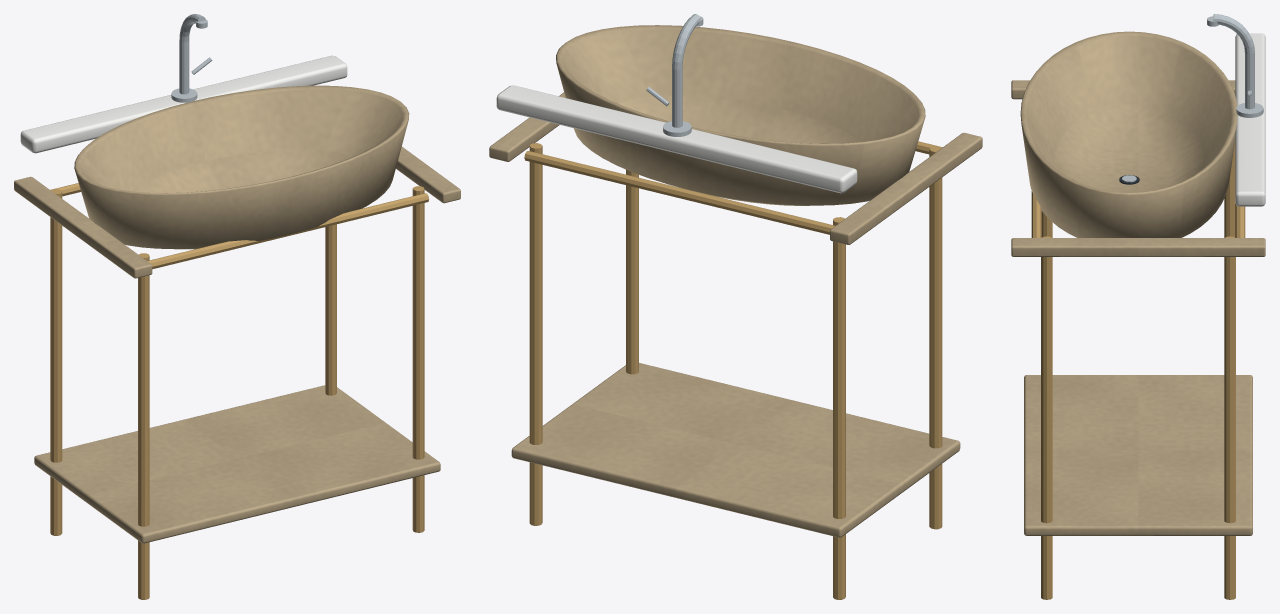
Rendered from designed-basin-console.glb.
3 views of the same model, side by side, from view 1: azimuth 30°, elevation 25°; view 2: azimuth 150°, elevation 25°; view 3: azimuth 270°, elevation 25° (orthographic). The views are drawn at different scales.
Visible parts, largest first — view 1: catalog_surface_RealismUV; view 2: catalog_surface_RealismUV; view 3: catalog_surface_RealismUV.
Part boxes in pixels (x1,y1,x2,y2): catalog_surface_RealismUV: (14, 14, 460, 599); catalog_surface_RealismUV: (489, 14, 982, 599); catalog_surface_RealismUV: (1011, 14, 1265, 599).
Bounding box in the file's own units: 0.7 × 1 × 0.45.
Materials: 5 (1 with a texture image).
